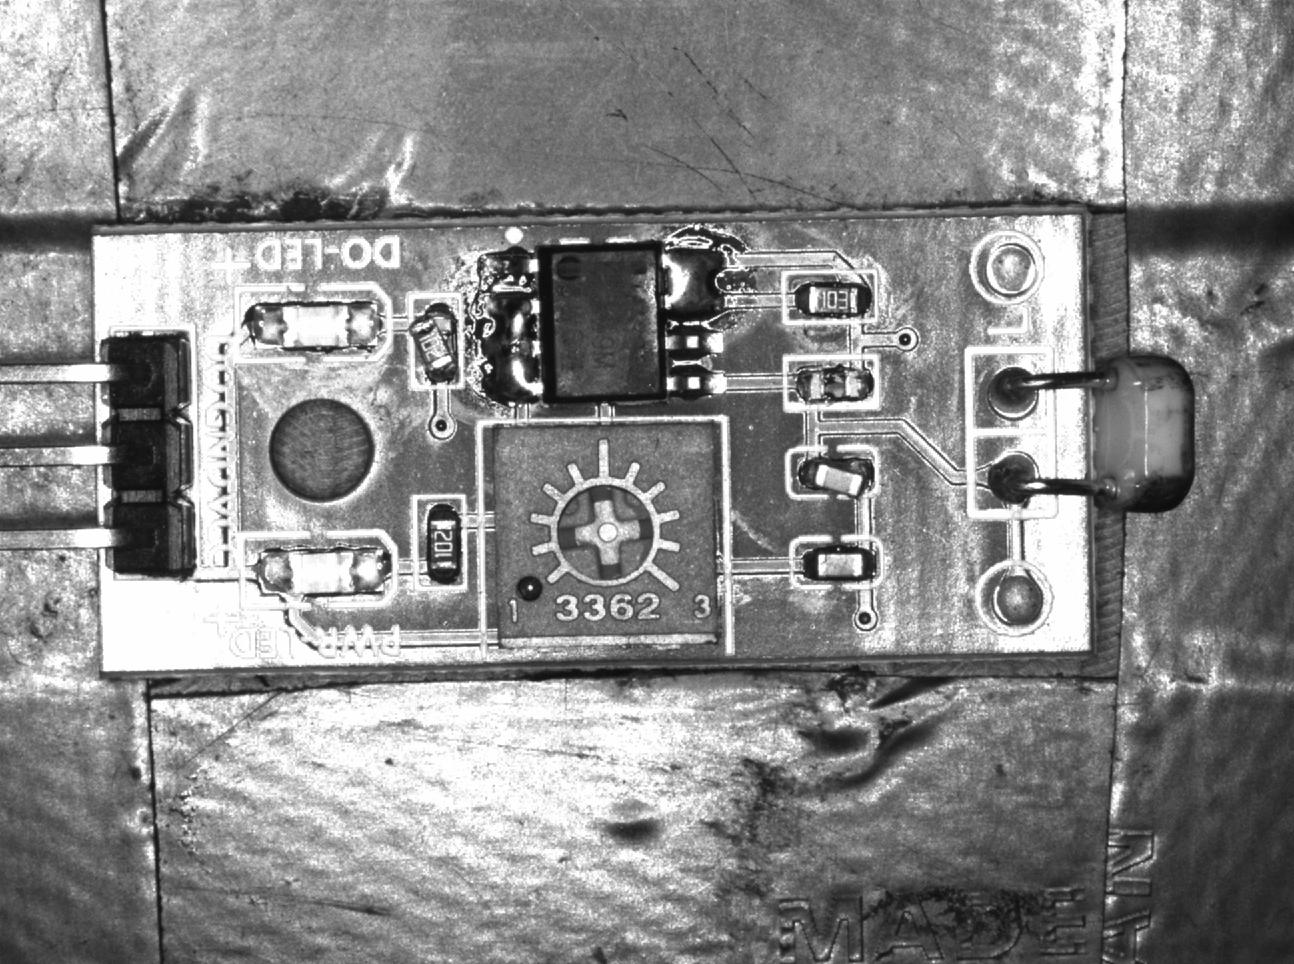bridge: (475, 287, 543, 406), (662, 245, 729, 321)
lifted: (407, 292, 467, 391), (786, 446, 880, 501)
miss: (786, 356, 878, 409)
ok: (783, 268, 875, 328), (414, 495, 466, 590), (791, 535, 883, 586)
